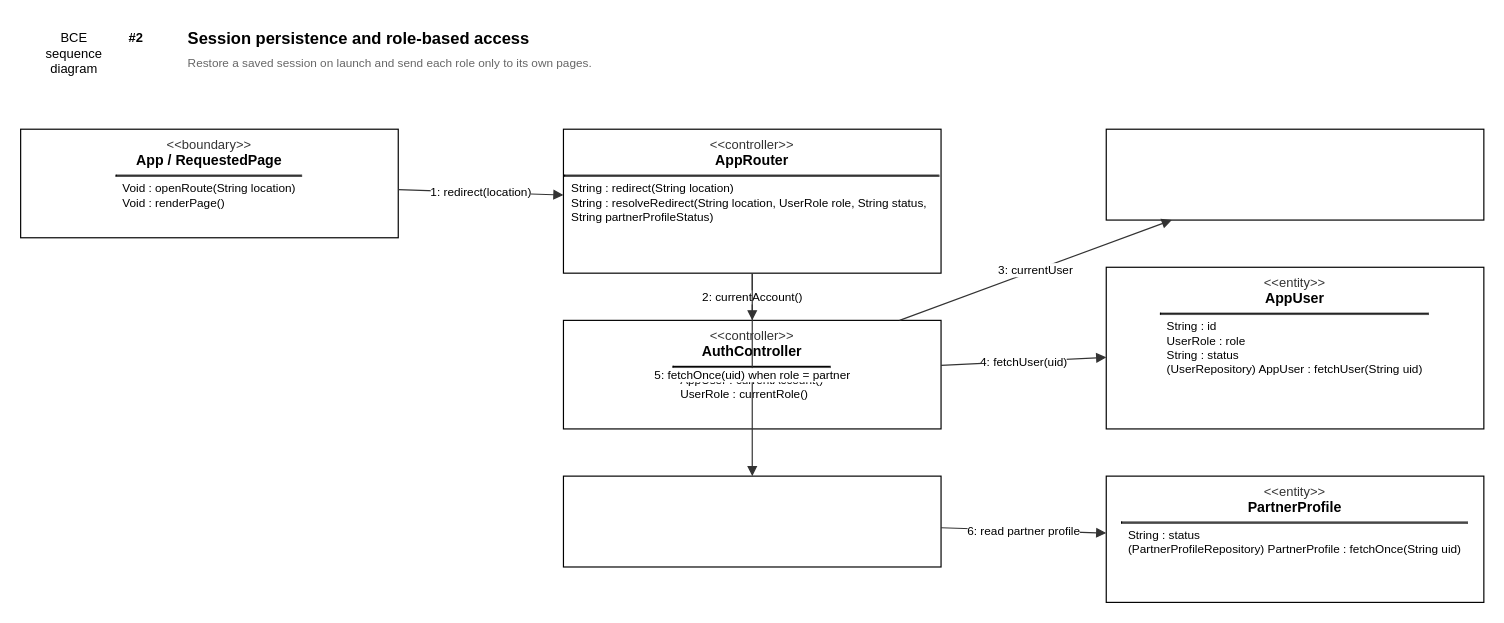
This 1504x623 diagram has some shape labels left out. The centre of each missing label's shape, as x and y in pixels:
<<controller>> PartnerProfileController PartnerProfile : fetchOnce(String uid): [751,521]
<<entity>> AuthService (Firebase Auth) User : currentUser: [1294,174]
